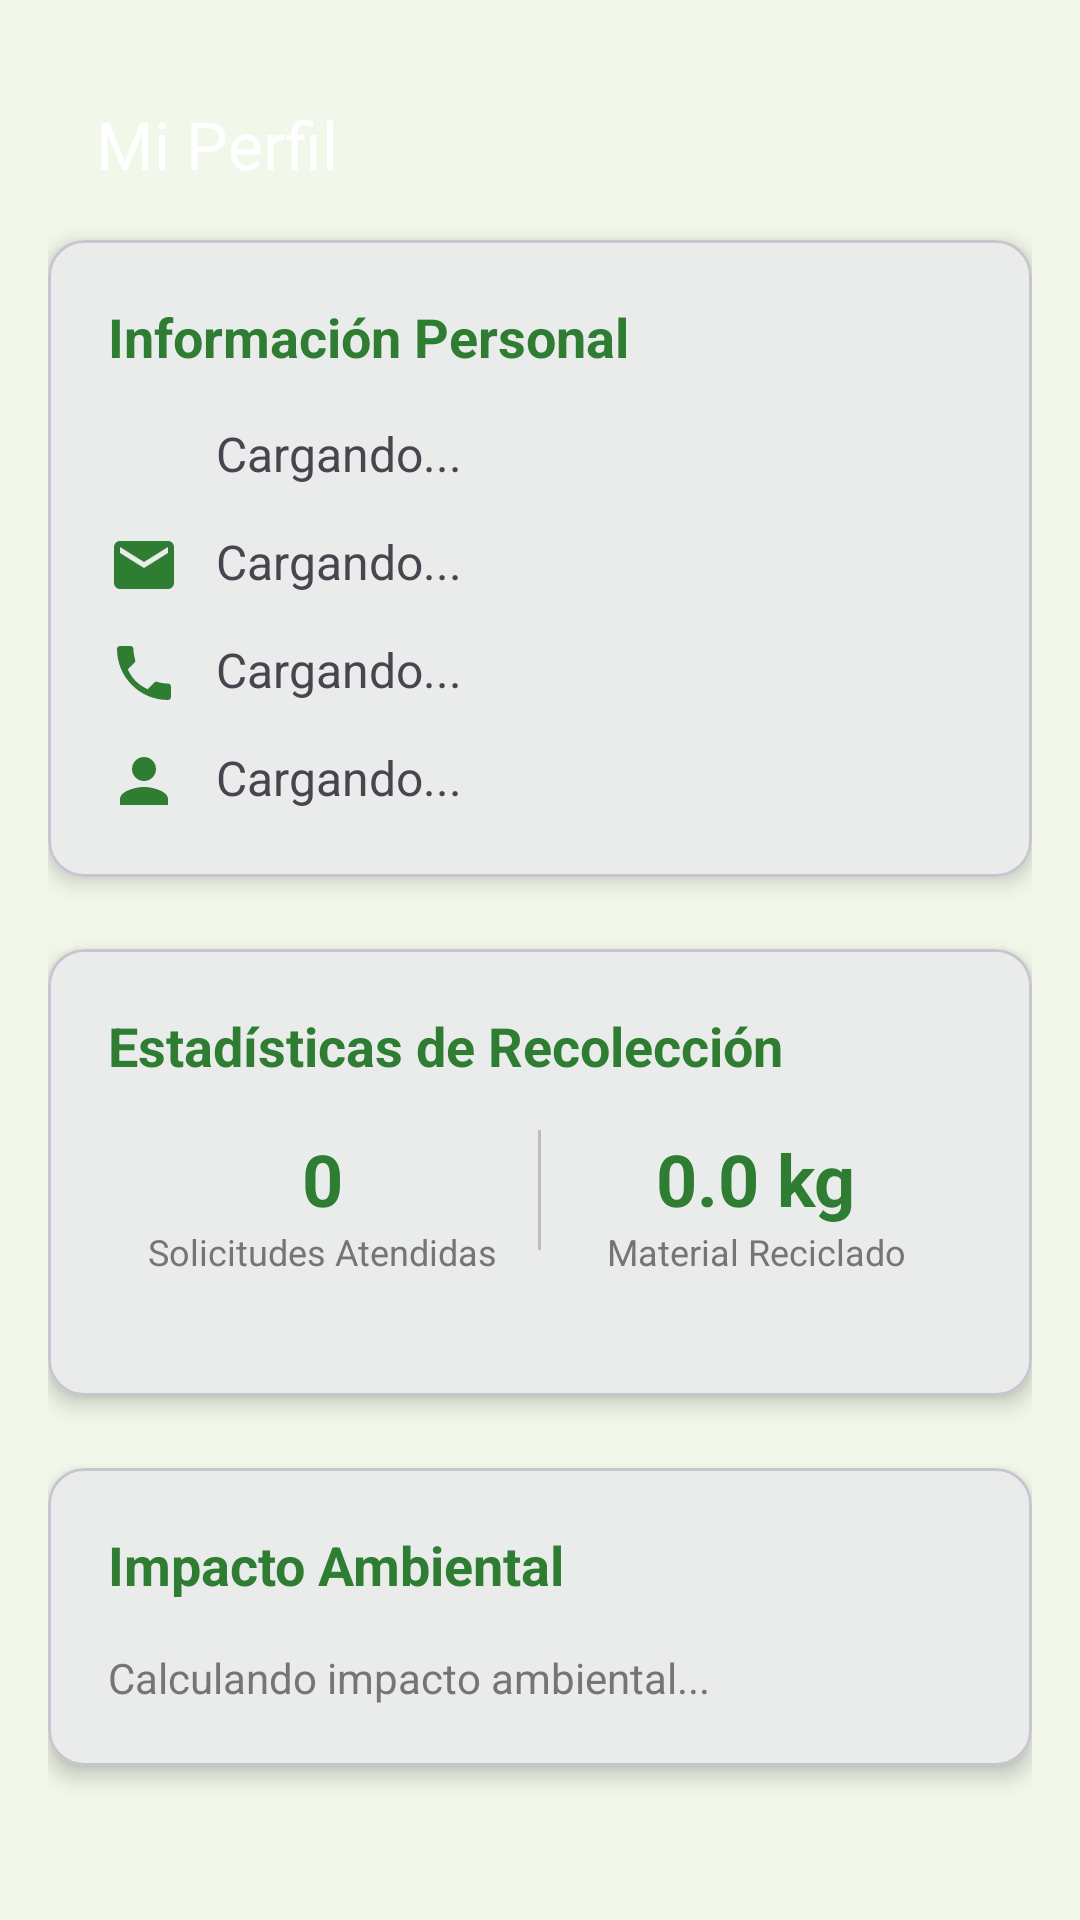

Point at icon controls on the screen. Image size 1080*1920, points as [x,y].
email: [144,565]
phone: [144,673]
role: [144,781]
